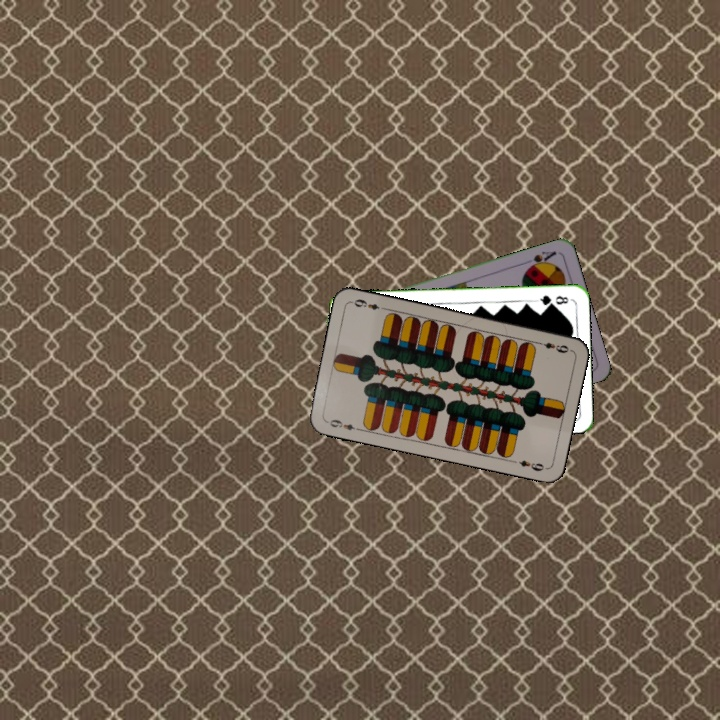E9: (533, 338, 573, 356), (323, 415, 363, 433)
G8: (532, 291, 571, 308)
SA: (522, 247, 559, 272)
